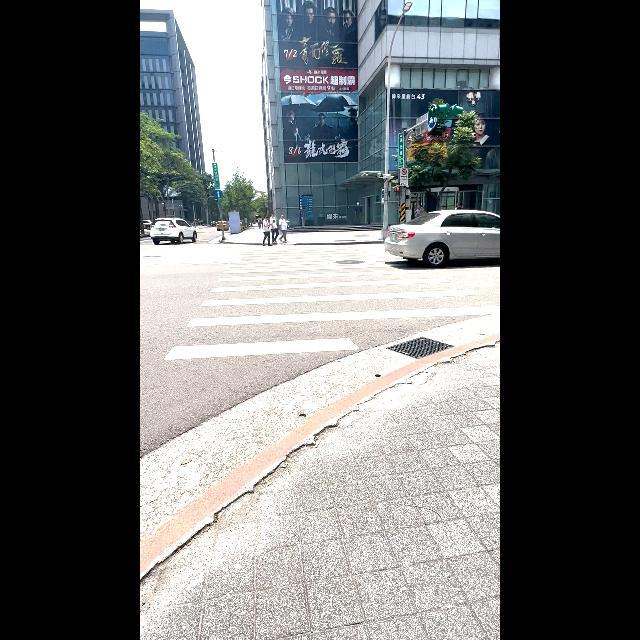sidewalk: (164, 244, 485, 360)
